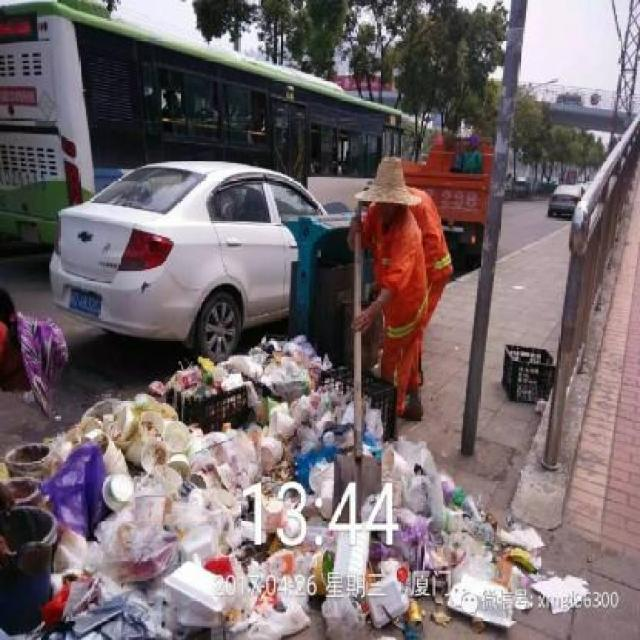garbage: (5, 411, 221, 640), (226, 337, 344, 472), (413, 466, 492, 558)
